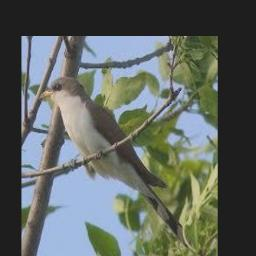Cuckoo: (38, 77, 192, 249)
